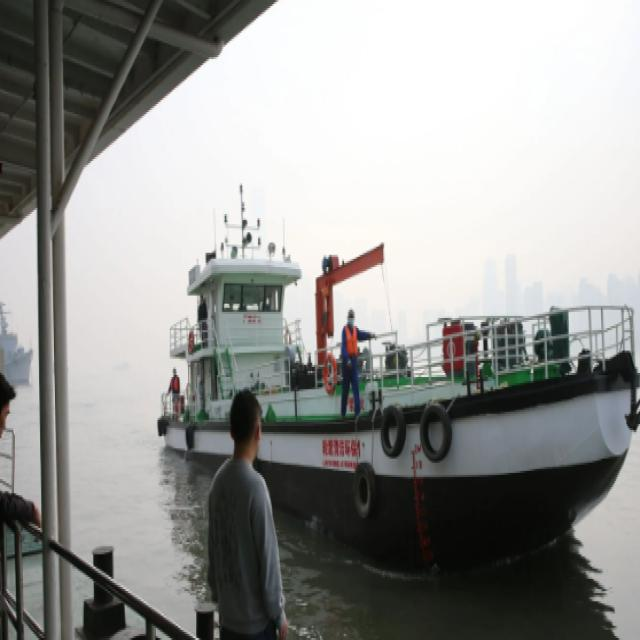fishing boat: (145, 212, 640, 581)
